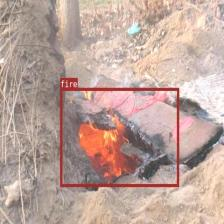fire: (60, 88, 178, 186)
